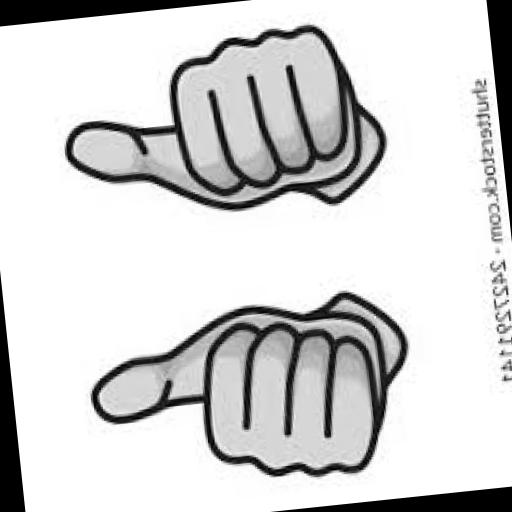Thumbs_Up: (64, 241, 440, 512), (26, 13, 430, 254)
